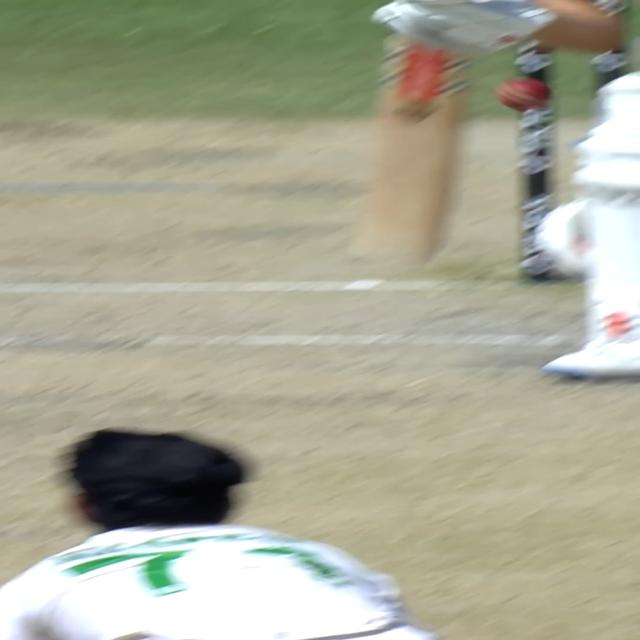Cricket ball: (489, 76, 557, 114)
